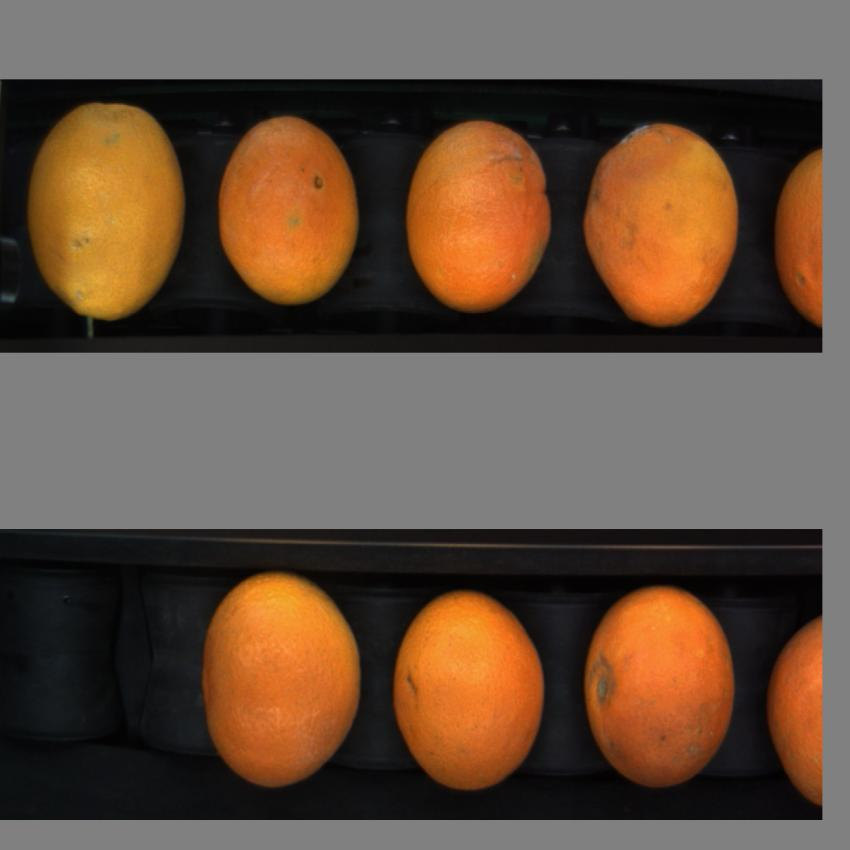Buen estado: (14, 96, 193, 330), (196, 564, 371, 802), (385, 579, 553, 804), (577, 574, 739, 803), (206, 106, 369, 315), (765, 608, 823, 819), (771, 140, 822, 344)
Mal estado: (574, 115, 747, 341), (397, 112, 559, 323)
